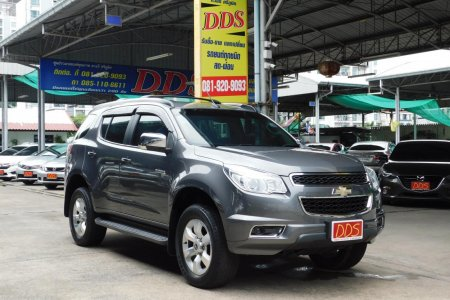pickup: (63, 94, 386, 289)
